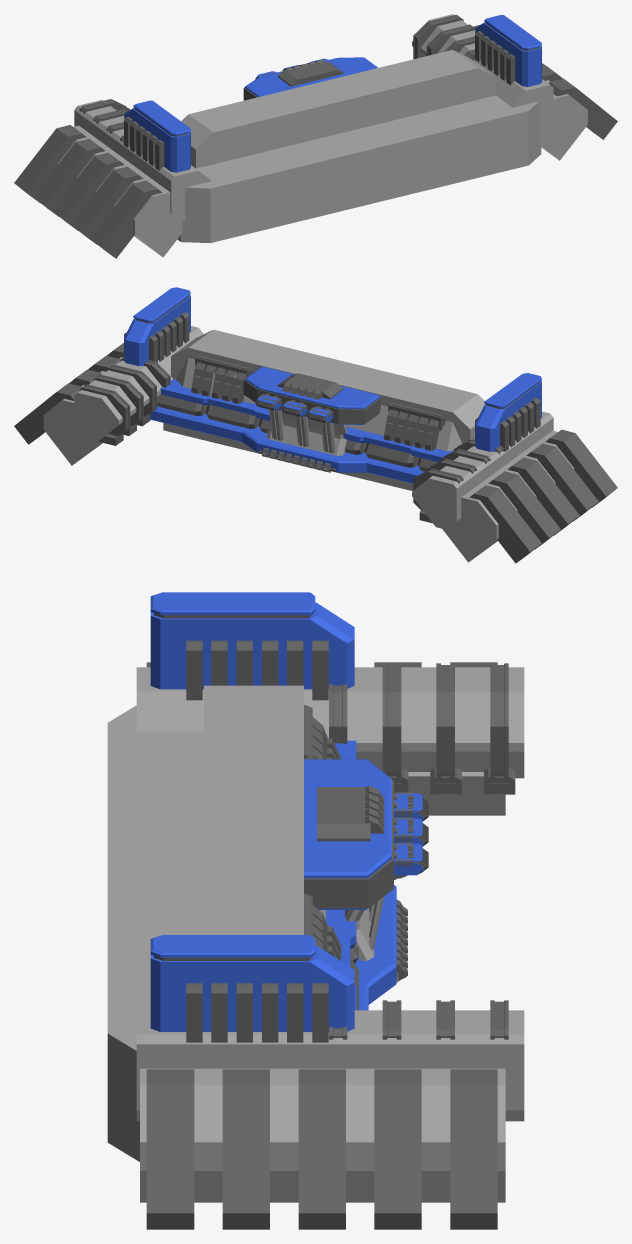
Rendered from spaceport_low-poly.glb.
The picture shows the model from 3 angles, top to bottom: view 1: azimuth 30°, elevation 25°; view 2: azimuth 150°, elevation 25°; view 3: azimuth 270°, elevation 25°; orthographic projection. The views are drawn at different scales.
Visible parts, largest first — view 1: Spaceport 24; view 2: Spaceport 24; view 3: Spaceport 24.
Part boxes in pixels (x1,y1,x2,y2): Spaceport 24: (14, 14, 617, 258); Spaceport 24: (14, 287, 617, 563); Spaceport 24: (107, 592, 524, 1229).
Size of the model in its own units: 265 by 58.05 by 92.65.
